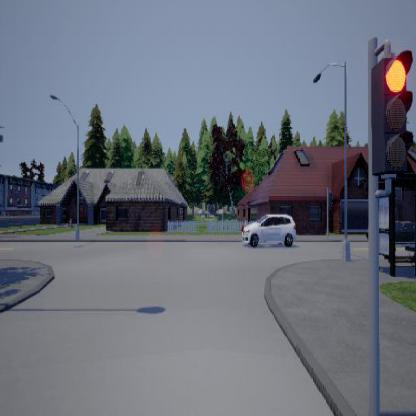traffic_light_red: (370, 38, 413, 197)
vehicle: (241, 214, 296, 247), (395, 220, 414, 243)
